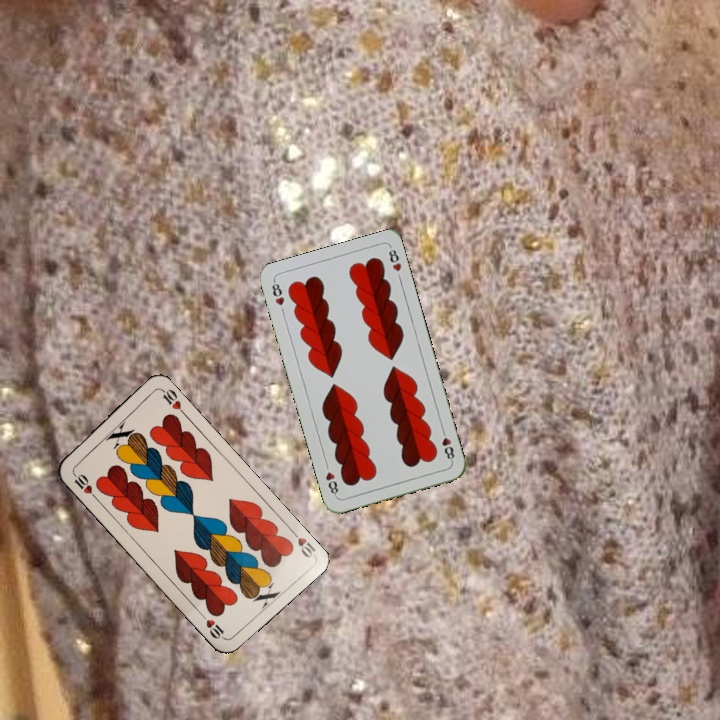H10: (286, 525, 318, 560), (69, 468, 99, 502)
H8: (438, 425, 457, 465), (268, 277, 287, 308)
